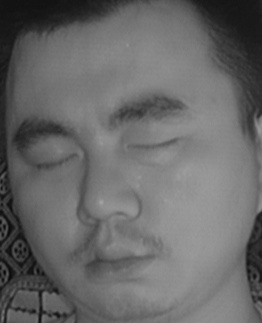blink: (129, 128, 183, 166), (32, 144, 80, 179)
mouth: (80, 231, 159, 285)
